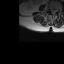CCS_normal: (52, 7, 54, 16)
LFS_stenosis: (56, 7, 58, 13)
LLS_normal: (54, 7, 56, 14)
RFS_stenosis: (49, 6, 50, 13)
RLS_normal: (50, 7, 52, 15)
